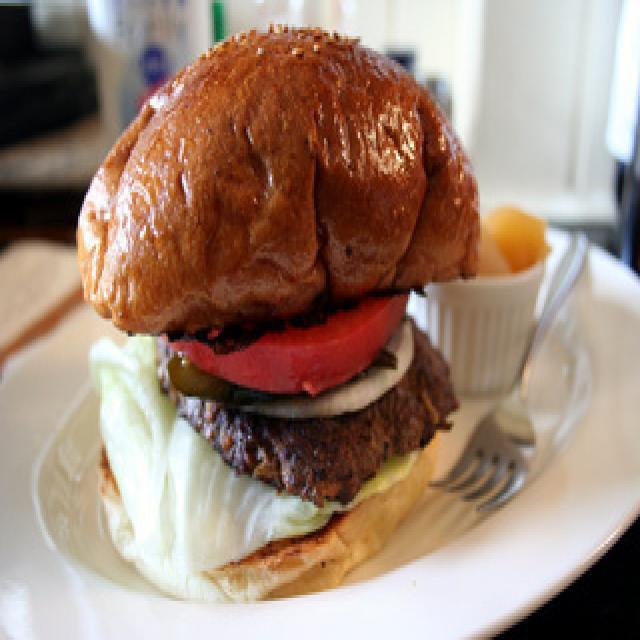Hamburger: (65, 0, 233, 207)
